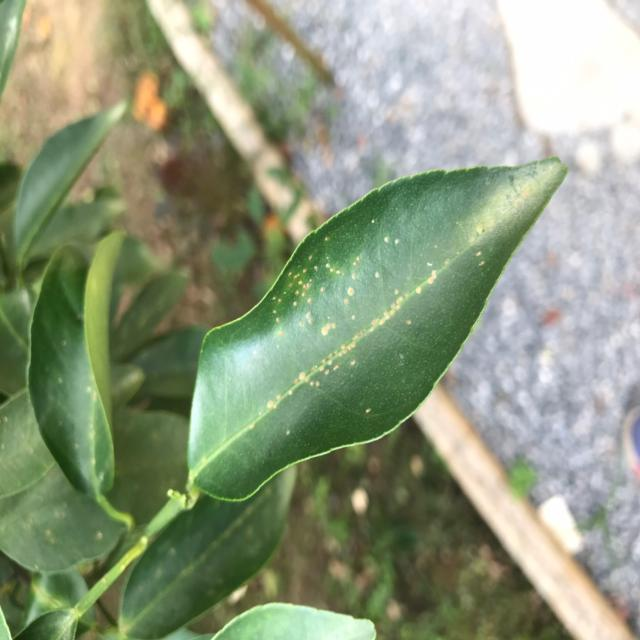canker: (238, 184, 542, 446), (143, 487, 287, 605), (32, 288, 112, 497)
